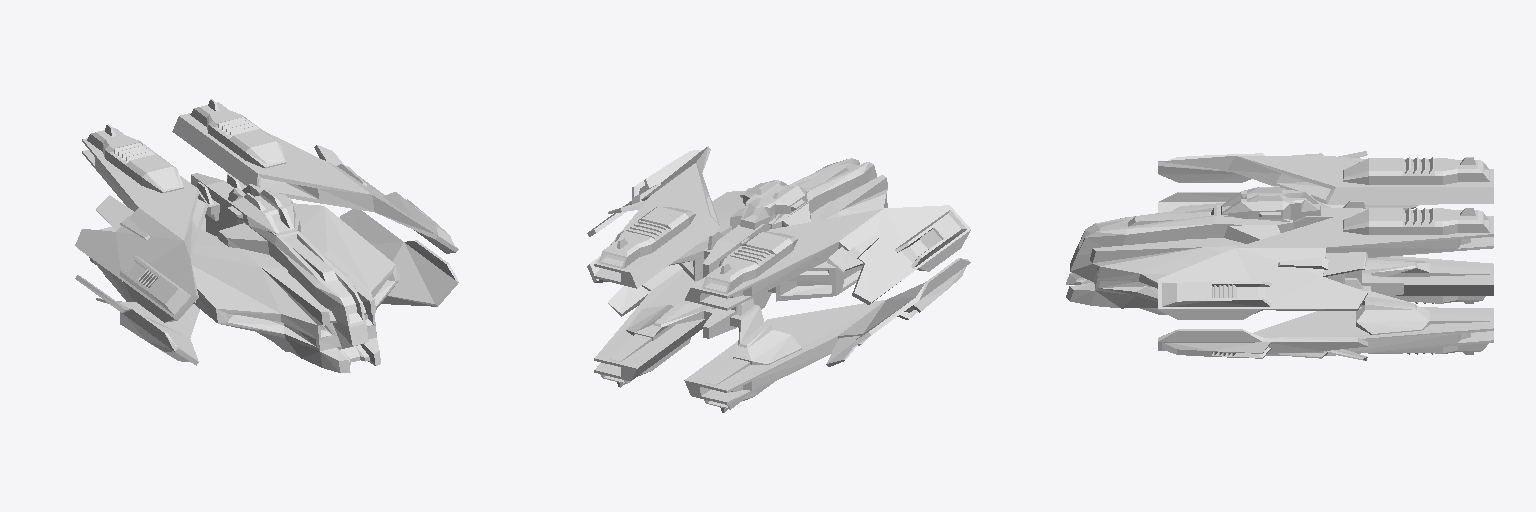
The model's file is Boss2.obj.
The picture shows the model from 3 angles: view 1: azimuth 30°, elevation 25°; view 2: azimuth 150°, elevation 25°; view 3: azimuth 270°, elevation 25°; orthographic projection.
Visible parts, largest first — view 1: SF_Free-Fighter (1); view 2: SF_Free-Fighter (1); view 3: SF_Free-Fighter (1).
Part boxes in pixels (x1,y1,x2,y2): SF_Free-Fighter (1): (75, 99, 458, 372); SF_Free-Fighter (1): (587, 146, 970, 412); SF_Free-Fighter (1): (1066, 151, 1493, 360).
Size of the model in its own units: 9.26 by 4.49 by 11.89.